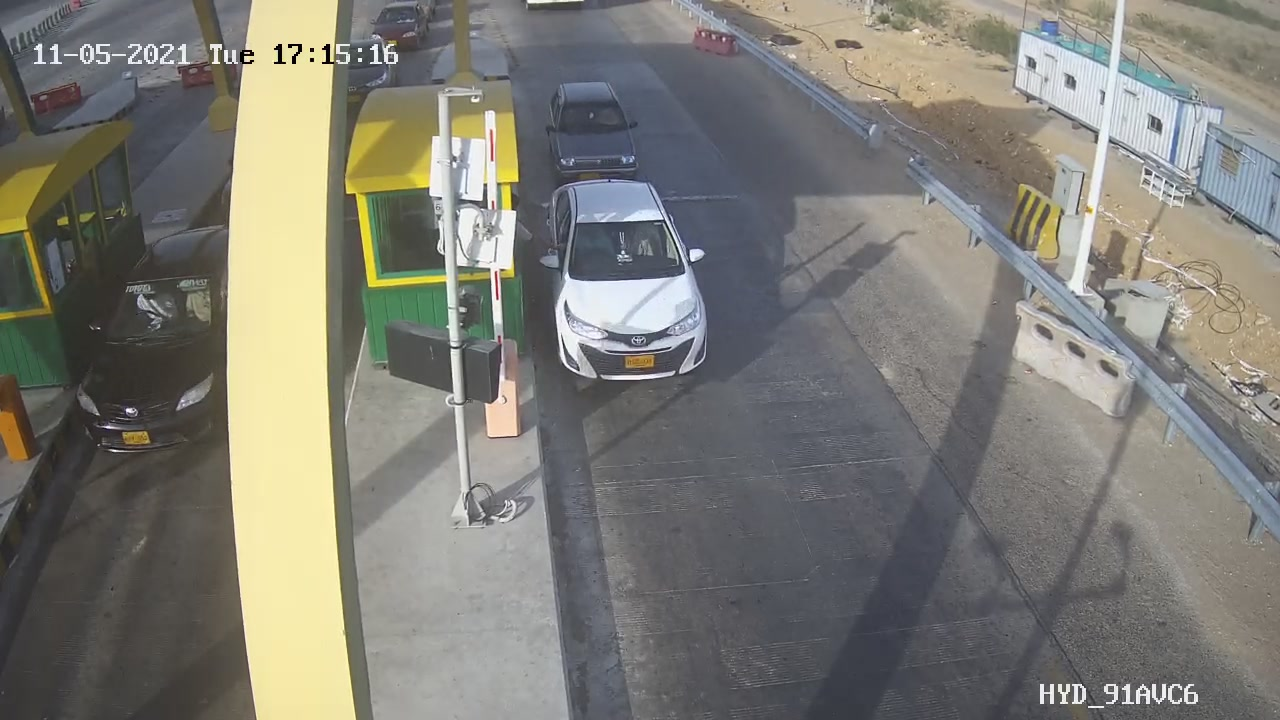F1: (525, 165, 734, 400), (531, 69, 659, 201)
